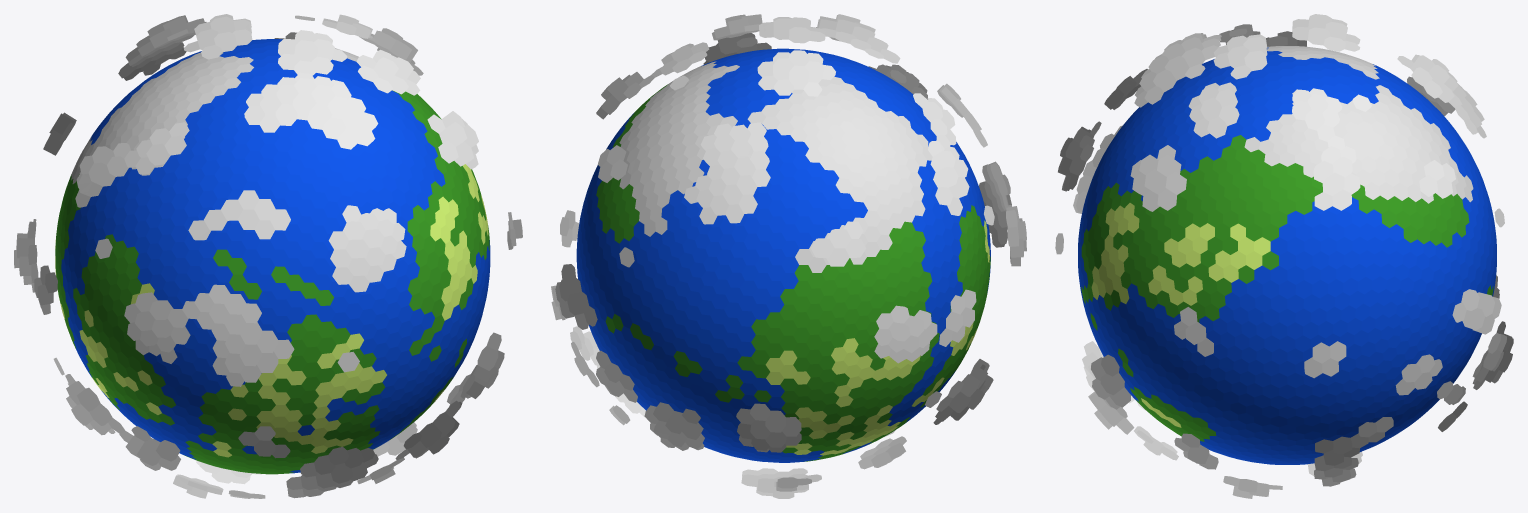
File: planet.glb
3 renders of one model, left to right at view 1: azimuth 30°, elevation 25°; view 2: azimuth 150°, elevation 25°; view 3: azimuth 270°, elevation 25°, orthographic. The views are drawn at different scales.
Visible parts, largest first — view 1: GoldbergPolyhedronMesh, clouds; view 2: GoldbergPolyhedronMesh, clouds; view 3: GoldbergPolyhedronMesh, clouds.
Part boxes in pixels (x1,y1,x2,y2): GoldbergPolyhedronMesh: [55, 39, 490, 474]; clouds: [14, 14, 522, 498]; GoldbergPolyhedronMesh: [576, 48, 990, 462]; clouds: [551, 14, 1026, 498]; GoldbergPolyhedronMesh: [1078, 46, 1496, 464]; clouds: [1055, 14, 1513, 498].
Size of the model in its own units: 2.26 by 2.36 by 2.18.
